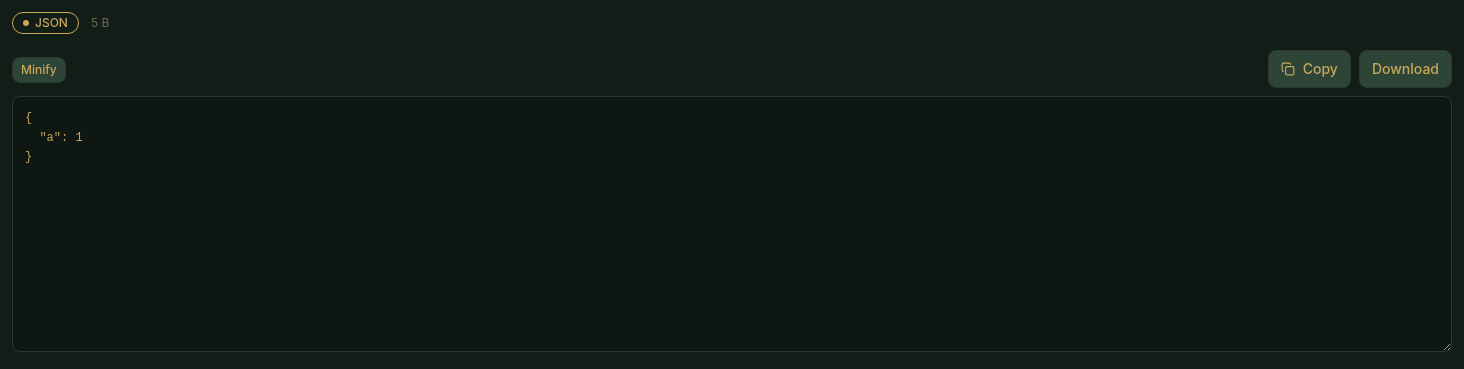
Scenario: ResultView › prettifies and minifies JSON
This screenshot has width=1464, height=369.
Click the button "Minify" at point(39, 70), box [12, 56, 66, 82]
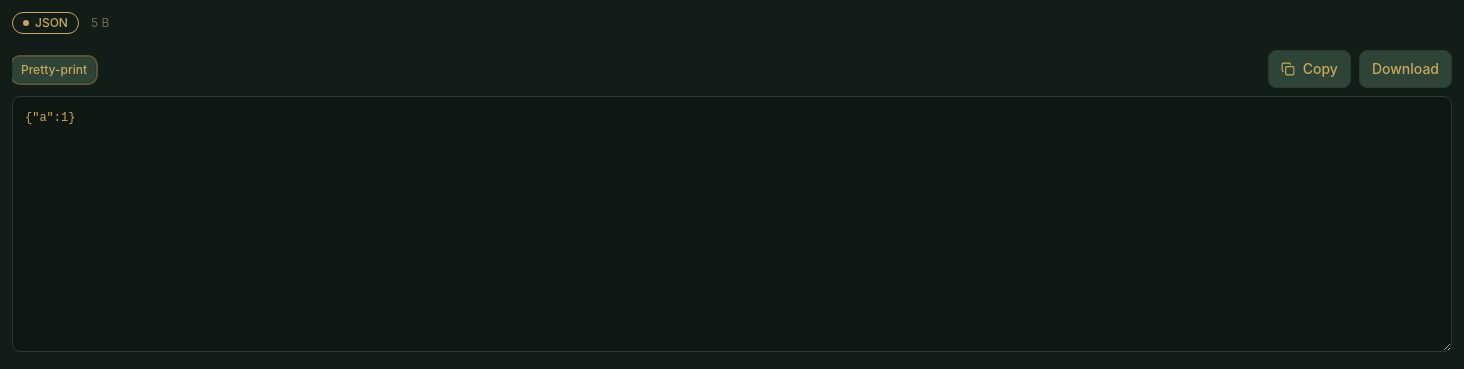
Expected: the text box showing "{\"a\":1}" is shown
